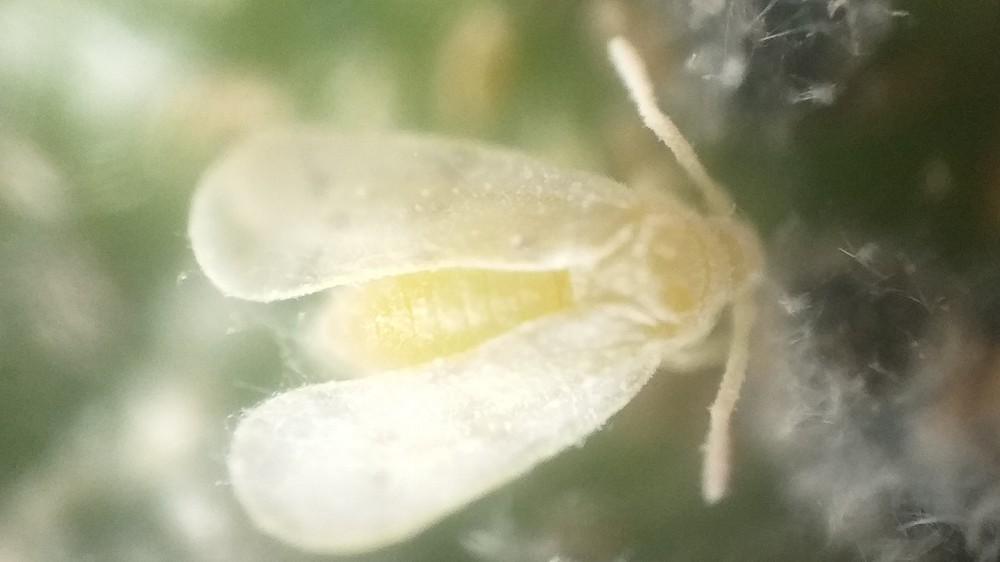Mosca Blanca: (190, 38, 791, 554)
